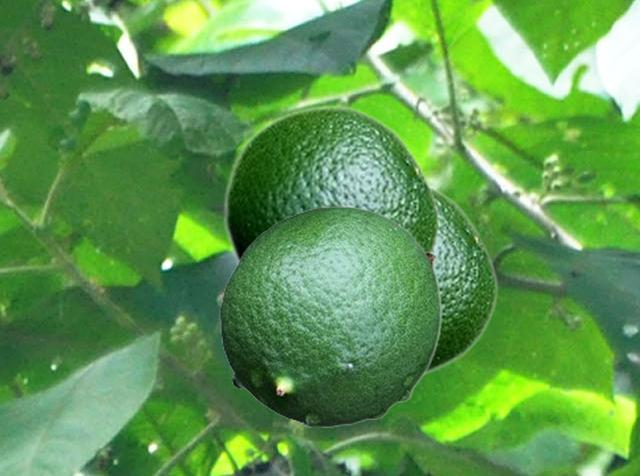calamansi: (219, 205, 441, 426), (222, 104, 440, 268), (423, 182, 498, 378)
